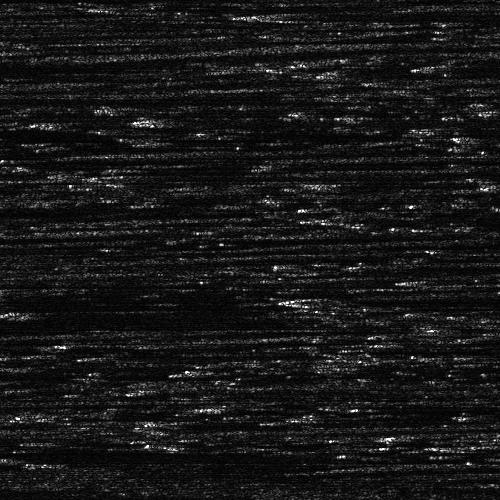rock: (103, 112, 196, 127), (0, 455, 55, 462)
shadow: (150, 112, 305, 127), (0, 278, 53, 303), (9, 455, 174, 462)
